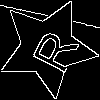R: (22, 22, 80, 76)
